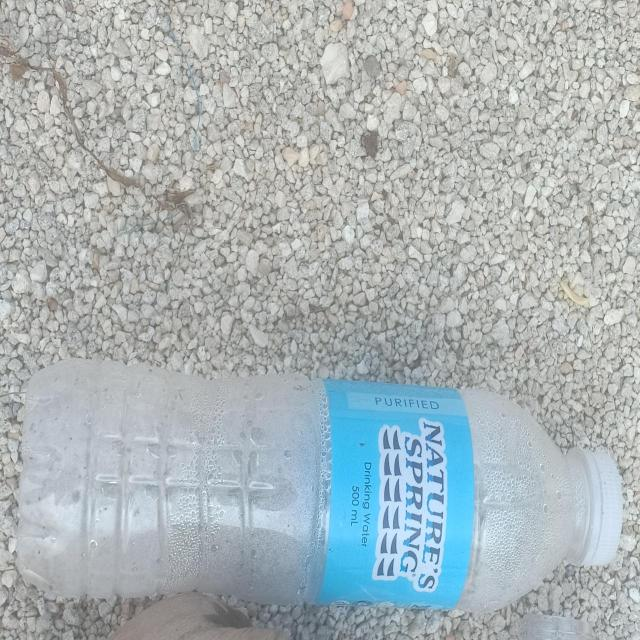plastic_waste: (17, 358, 625, 616)
